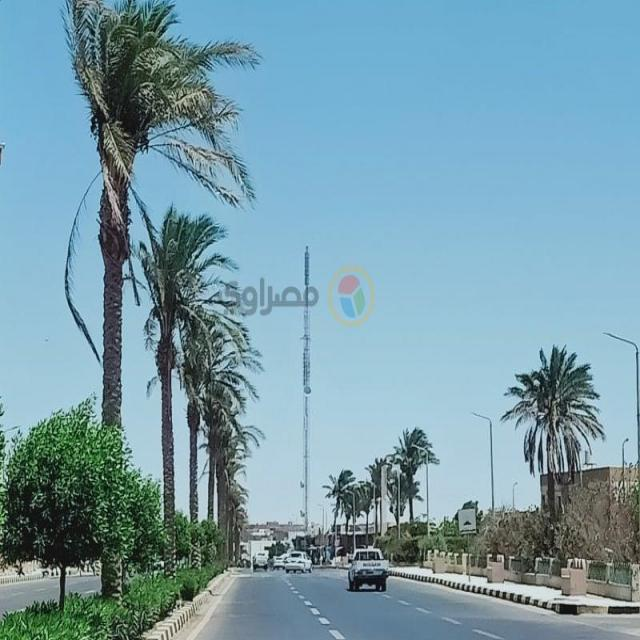car: (341, 532, 406, 605), (281, 545, 319, 578)
column: (478, 402, 504, 540)
tree: (62, 5, 179, 450), (14, 394, 116, 632), (142, 218, 202, 499), (517, 316, 580, 576), (129, 461, 189, 602), (383, 424, 427, 590), (183, 289, 217, 498), (168, 491, 207, 600)
